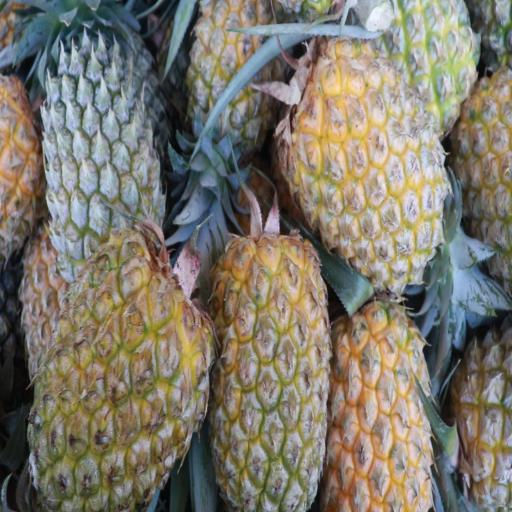------------------------------: (187, 0, 280, 149)
Pineapple - v8 v1: (35, 220, 212, 512), (288, 29, 442, 280), (214, 236, 329, 504), (330, 294, 432, 512)
